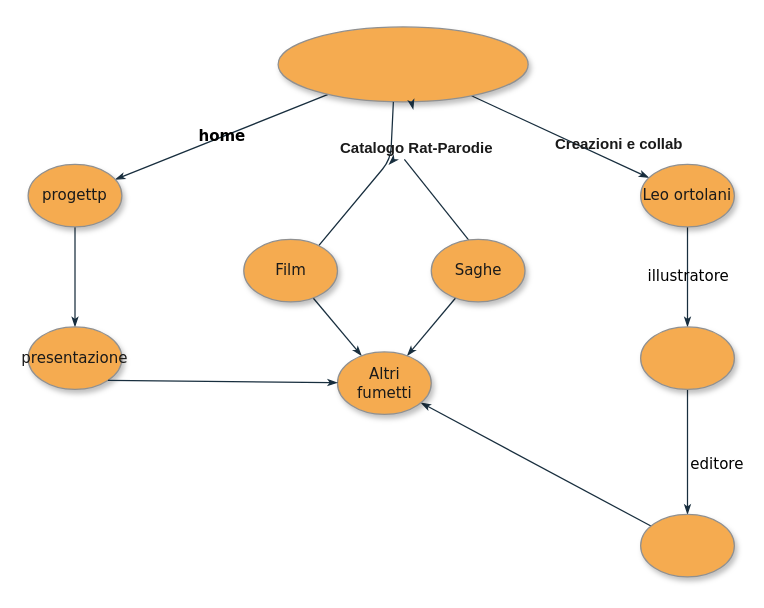
Image size: 764x608. Some labels were removed from this diagram. The shapes that lost their labels are listed below. From the top down, each one's centre as x and y in pixels, then its label:
At point (404, 66): "Rat-Man Edizioni-Speciali (Parodie)".
At point (688, 359): "Larry ortolani".
At point (688, 547): "Panini comics".
